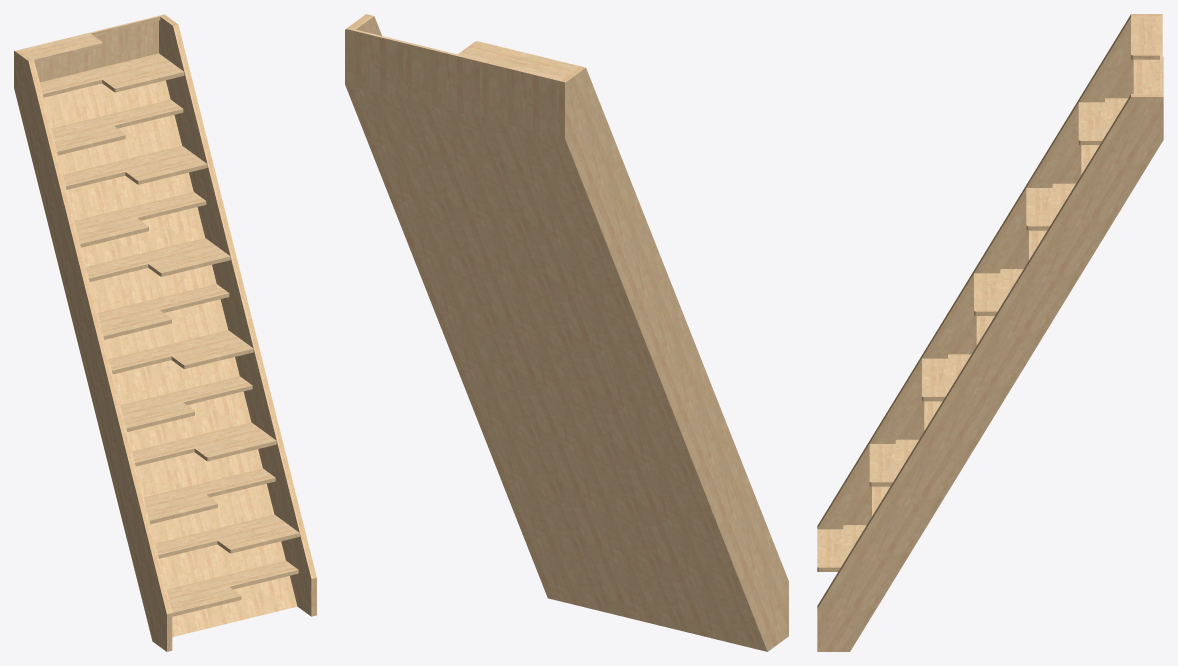
The model's file is sweethome3d-contributions-staircase-samba-412.glb.
3 views of the same model, side by side, from view 1: azimuth 30°, elevation 25°; view 2: azimuth 150°, elevation 25°; view 3: azimuth 270°, elevation 25° (orthographic). The views are drawn at different scales.
Parts seen in each view (by area): view 1: 17_17, 1_1, 5_5, 15_15; view 2: 17_17, 5_5, 1_1; view 3: 15_15, 5_5, 1_1, 17_17.
Boxes of the visible parts, x1=… form: 17_17: x1=14, y1=20, x2=297, y2=641; 1_1: x1=20, y1=16, x2=299, y2=616; 5_5: x1=14, y1=49, x2=172, y2=651; 15_15: x1=159, y1=14, x2=316, y2=616; 17_17: x1=345, y1=29, x2=768, y2=651; 5_5: x1=557, y1=65, x2=788, y2=650; 1_1: x1=354, y1=29, x2=577, y2=81; 15_15: x1=817, y1=94, x2=1162, y2=651; 5_5: x1=817, y1=14, x2=1162, y2=571; 1_1: x1=817, y1=17, x2=1162, y2=571; 17_17: x1=849, y1=56, x2=1163, y2=651.
Bounding box in the file's own units: 85 × 265 × 150.
3 materials, 3 textured.
